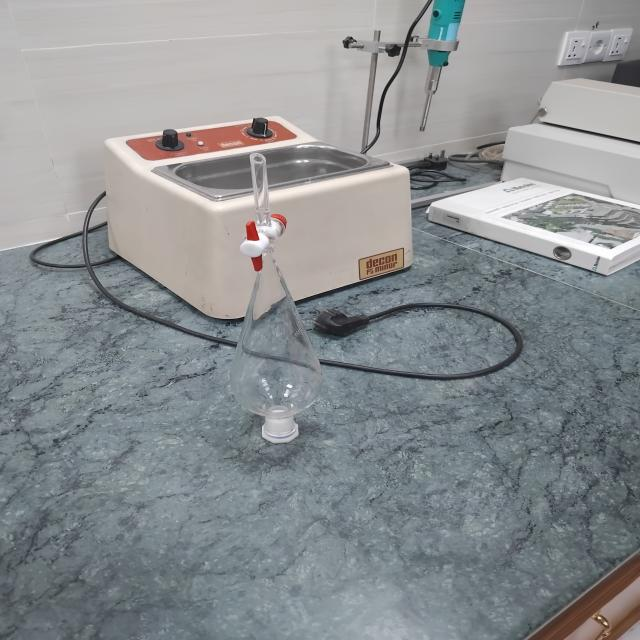Separating_Funnel: (217, 128, 344, 470)
